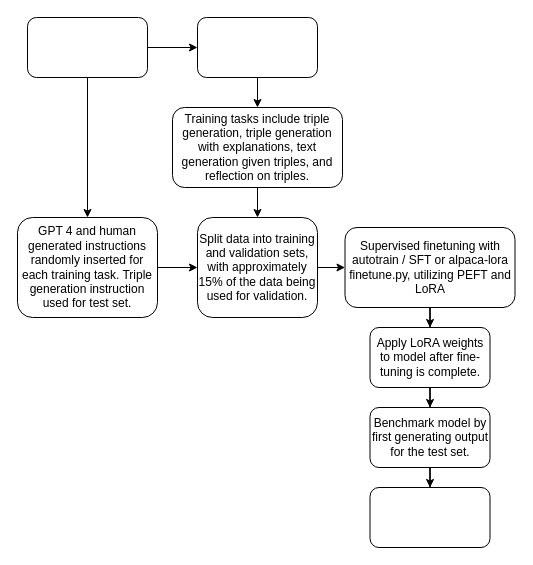
This 533x565 diagram has some shape labels left out. Each missing label, with the centre of its shape:
Evaluate triples and record the results.: (429,517)
Formatting triples and preparing different training tasks: (257,47)
Test and training data prepared before fine-tuning the models.: (87,47)
